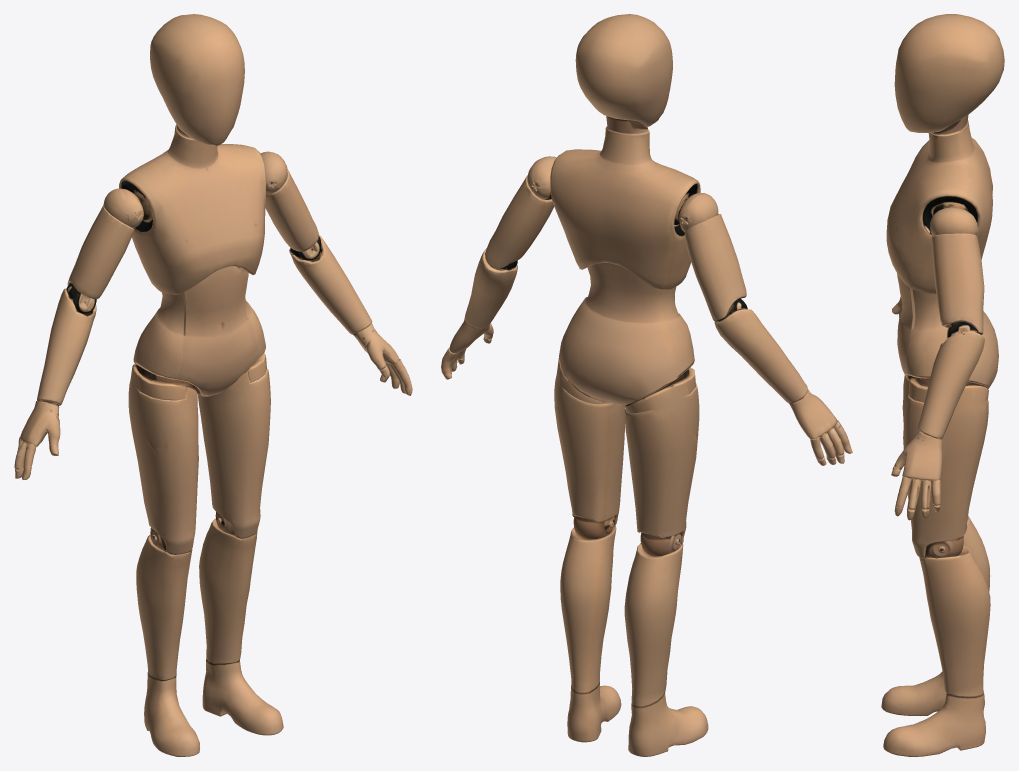
The model's file is toonstudio_male_5head.glb.
3 renders of one model, left to right at view 1: azimuth 30°, elevation 25°; view 2: azimuth 150°, elevation 25°; view 3: azimuth 270°, elevation 25°, orthographic. The views are drawn at different scales.
Parts seen in each view (by area): view 1: b8444028_4670_42ca_a28a_27eba20c474b; view 2: b8444028_4670_42ca_a28a_27eba20c474b; view 3: b8444028_4670_42ca_a28a_27eba20c474b.
Part boxes in pixels (x1,y1,x2,y2): b8444028_4670_42ca_a28a_27eba20c474b: (14,14,412,756); b8444028_4670_42ca_a28a_27eba20c474b: (441,14,852,756); b8444028_4670_42ca_a28a_27eba20c474b: (881,14,1004,756).
Size of the model in its own units: 0.9891 by 1.7 by 0.2682.
Materials: 1 (1 with a texture image).
